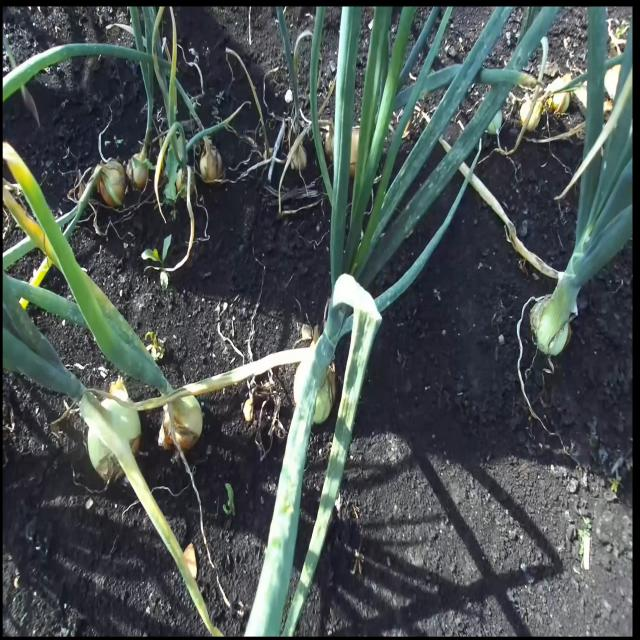onion: (83, 394, 142, 482), (161, 392, 203, 453), (532, 294, 570, 358), (97, 158, 126, 208), (199, 136, 223, 183)
